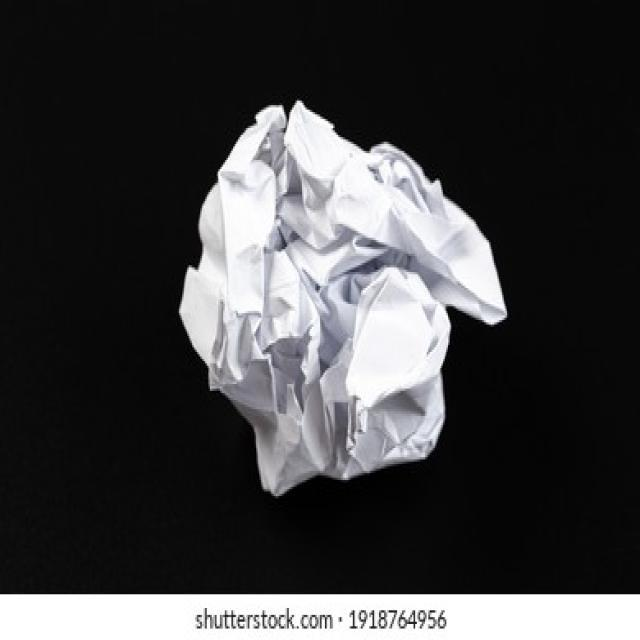Paper: (179, 103, 507, 503)
